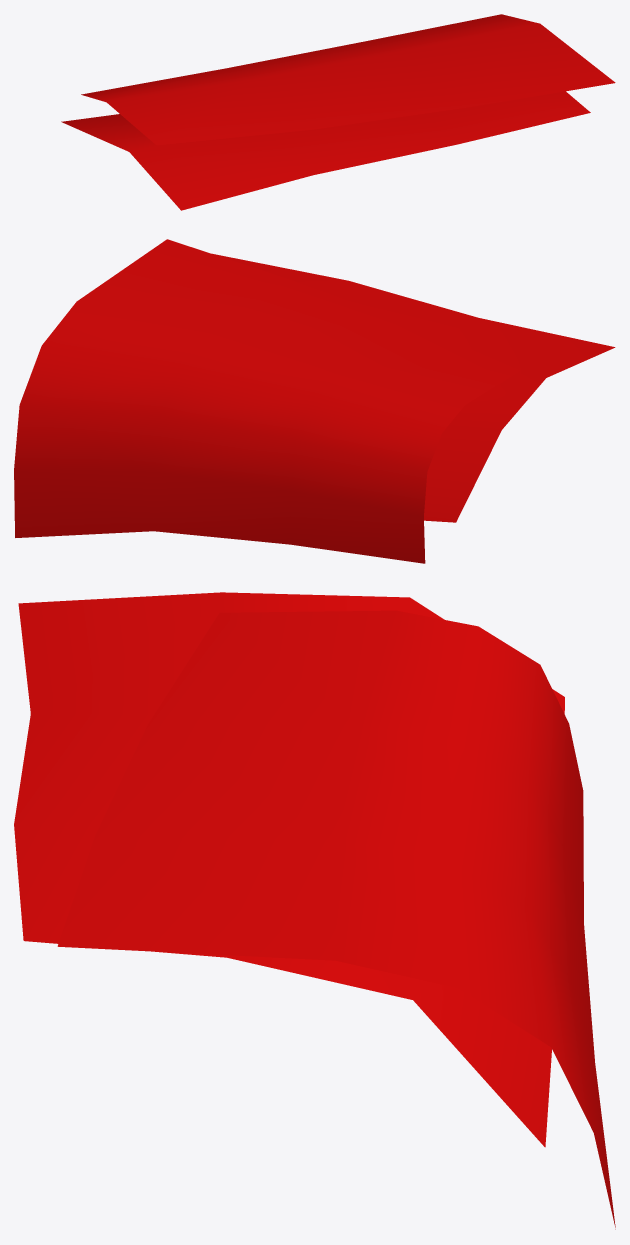
Rendered from Attic_PaperCurled_02_LP.glb.
3 views of the same model, one above another, from view 1: azimuth 30°, elevation 25°; view 2: azimuth 150°, elevation 25°; view 3: azimuth 270°, elevation 25° (orthographic). The views are drawn at different scales.
Parts seen in each view (by area): view 1: Attic_PaperCurled_02_LP; view 2: Attic_PaperCurled_02_LP; view 3: Attic_PaperCurled_02_LP.
Part boxes in pixels (x1,y1,x2,y2): Attic_PaperCurled_02_LP: (61, 14, 615, 210); Attic_PaperCurled_02_LP: (14, 239, 615, 563); Attic_PaperCurled_02_LP: (14, 592, 615, 1229).
Size of the model in its own units: 0.3223 by 0.1235 by 0.2225.
